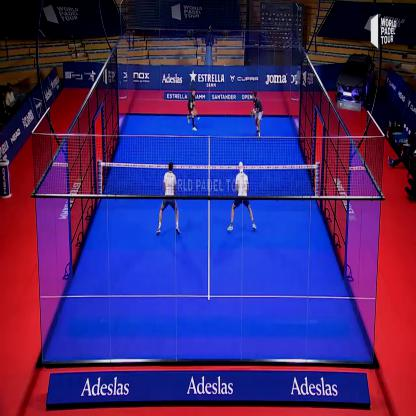ball: (194, 112, 203, 124)
